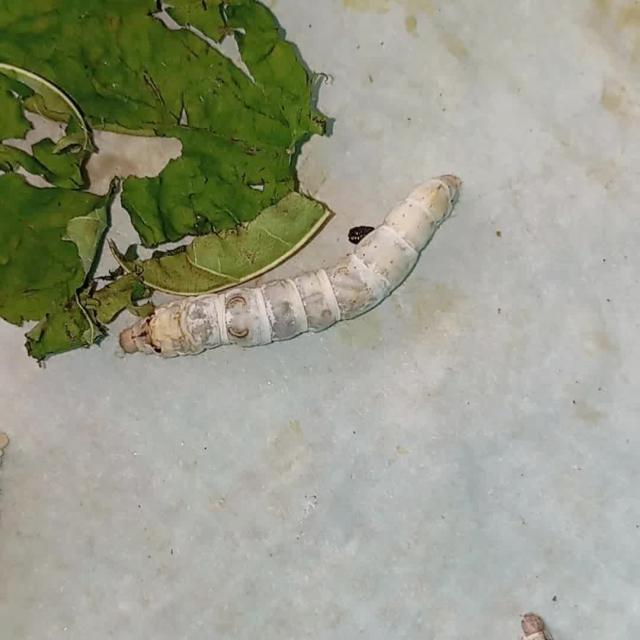Grasserie: (106, 168, 468, 359)
